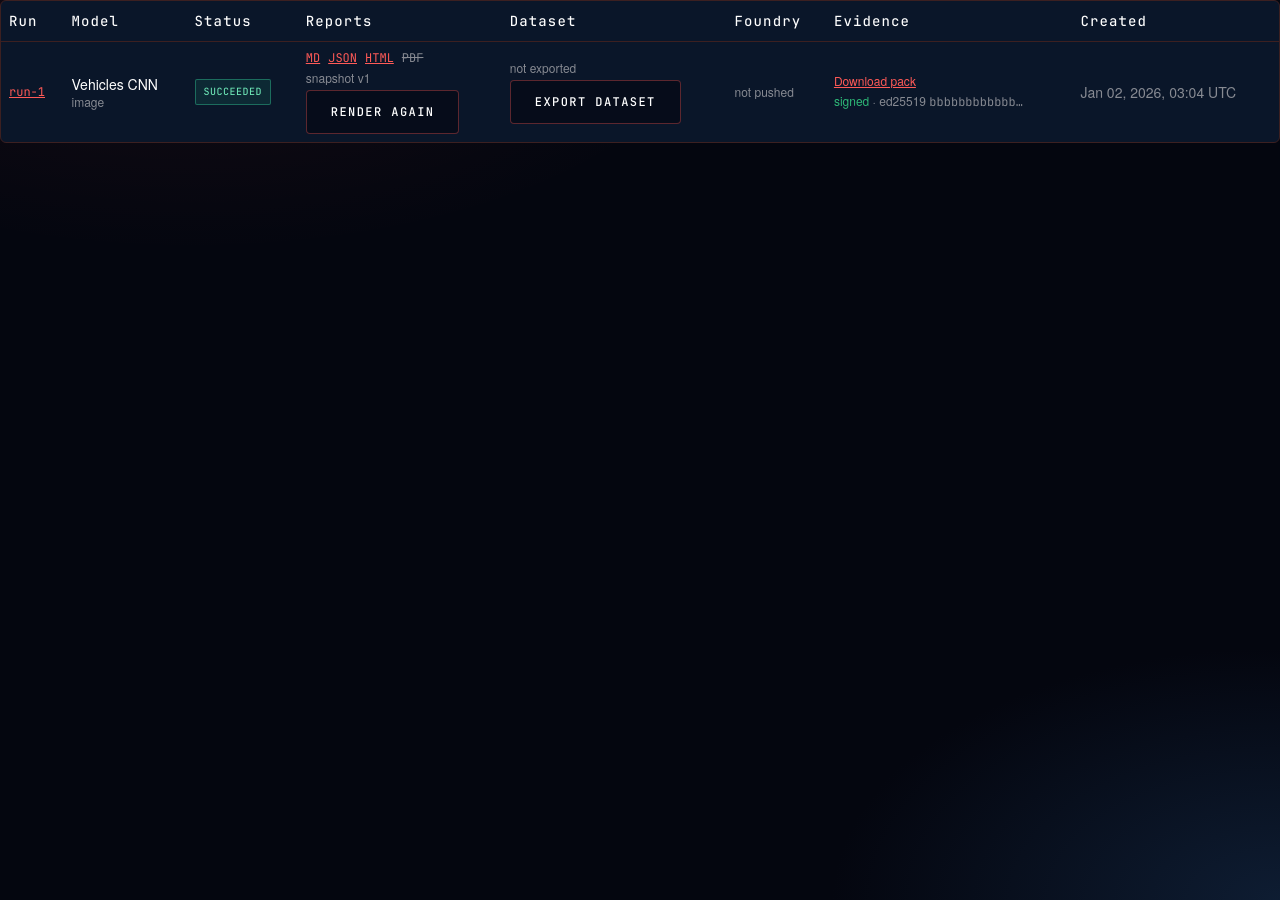
ExportsTable actions › starts a dataset export for a remediator and refetches the inventory
The width and height of the screenshot is (1280, 900).
Click the button "Export dataset".
click(595, 102)  # box [510, 80, 681, 124]
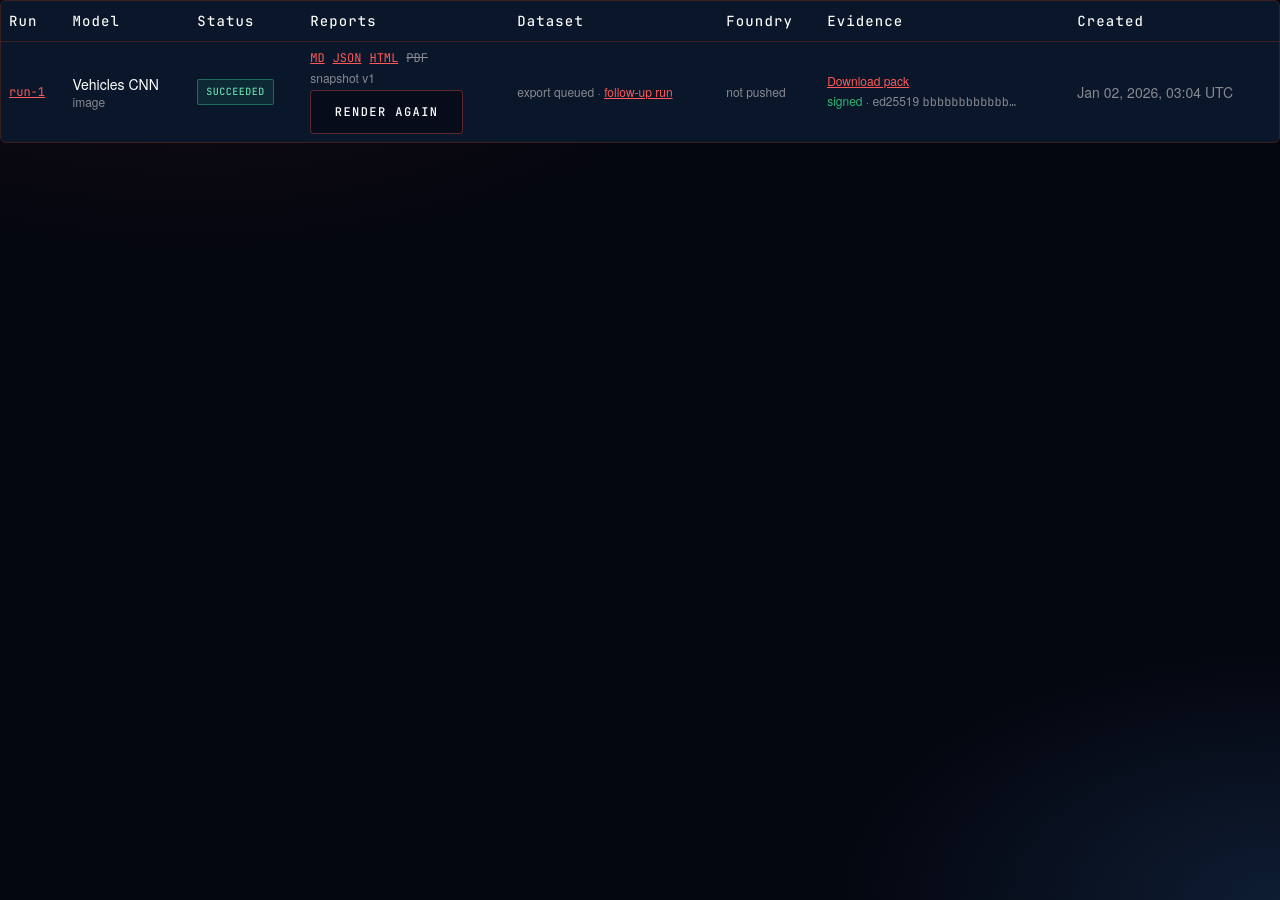
Result: the text "export queued · follow-up run" is shown at [517, 82, 673, 100]
